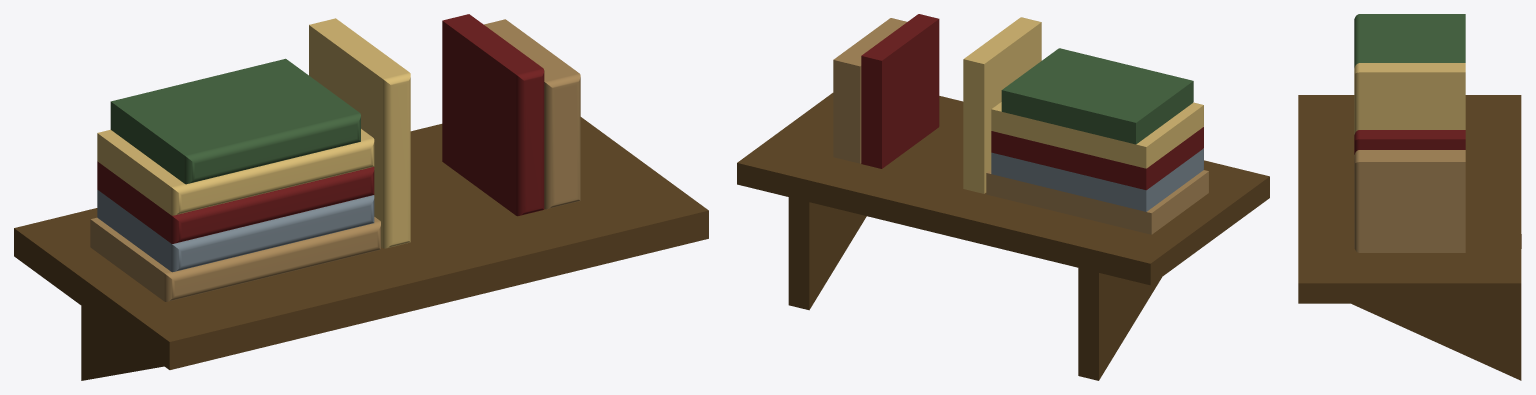
The model's file is repisa.obj.
3 views of the same model, side by side, from view 1: azimuth 30°, elevation 25°; view 2: azimuth 150°, elevation 25°; view 3: azimuth 270°, elevation 25° (orthographic). The views are drawn at different scales.
Parts seen in each view (by area): view 1: repisa:pCube13; view 2: repisa:pCube13; view 3: repisa:pCube13.
Part boxes in pixels (x1,y1,x2,y2): repisa:pCube13: (14, 14, 708, 380); repisa:pCube13: (737, 14, 1269, 380); repisa:pCube13: (1298, 14, 1521, 380).
Size of the model in its own units: 0.8773 by 0.5264 by 0.4388.
Materials: 6 (6 with a texture image).
